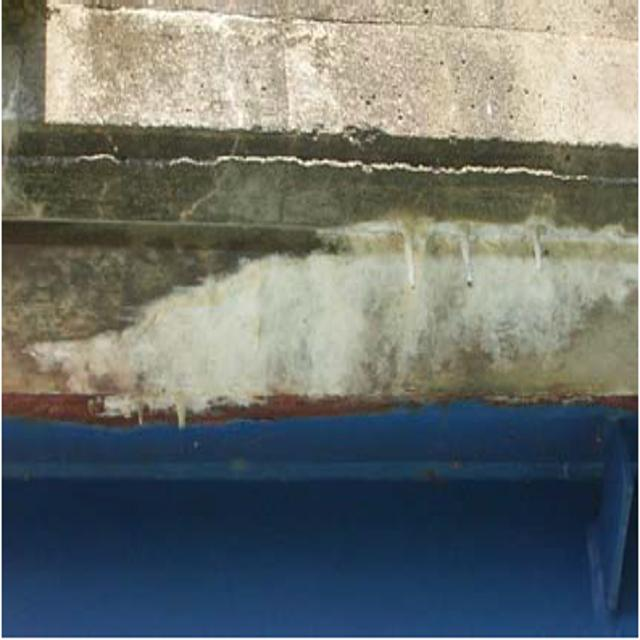corrosion: (5, 337, 640, 440)
